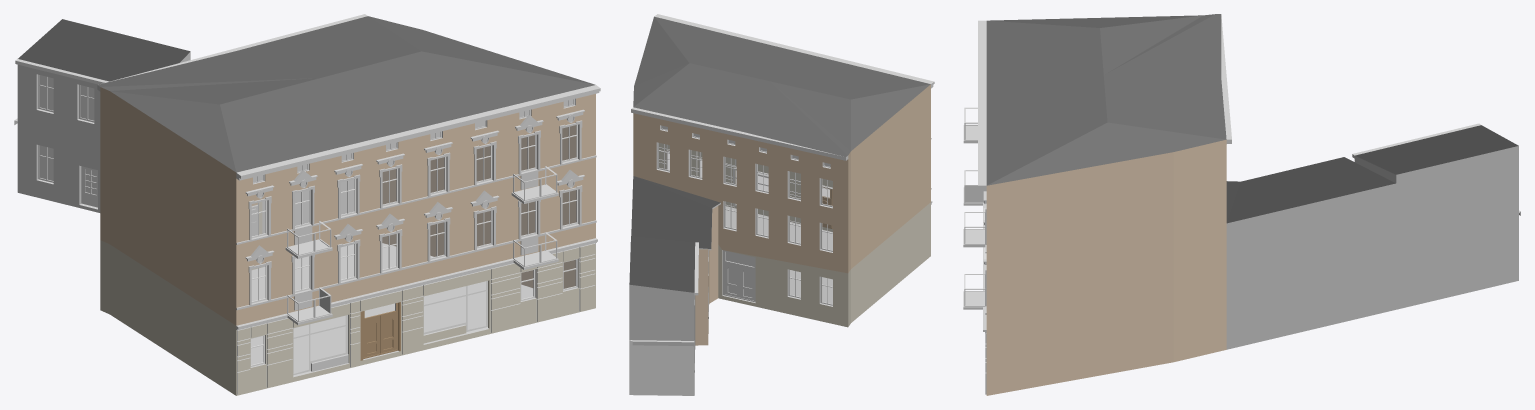
File: dogPound.fbx
3 views of the same model, side by side, from view 1: azimuth 30°, elevation 25°; view 2: azimuth 150°, elevation 25°; view 3: azimuth 270°, elevation 25° (orthographic). The views are drawn at different scales.
Visible parts, largest first — view 1: group, OKNO_R1_4, WITRYNA_2_, DRZWI_R5_2_001, OKNO_R1_34, OKNO_R1_36, OKNO_R1_33; view 2: group, OKNO_R1_27, BRAMA_R4_1, WITRYNA_2_, OKNO_R21_1; view 3: group.
Boxes of the visible parts, x1,y1,x2,y2 form: group: (14, 14, 600, 395); OKNO_R1_4: (251, 124, 579, 304); WITRYNA_2_: (250, 258, 578, 376); DRZWI_R5_2_001: (79, 165, 97, 209); OKNO_R1_34: (77, 84, 94, 123); OKNO_R1_36: (36, 144, 53, 184); OKNO_R1_33: (36, 74, 53, 113); group: (629, 14, 934, 395); OKNO_R1_27: (656, 142, 832, 306); BRAMA_R4_1: (722, 250, 755, 302); WITRYNA_2_: (666, 150, 768, 206); OKNO_R21_1: (660, 125, 830, 168); group: (963, 14, 1520, 395).
Size of the model in its own units: 107 by 64.69 by 147.
